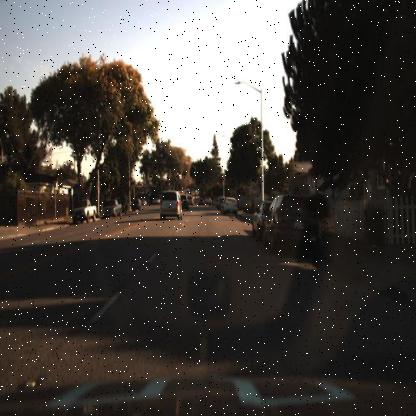car: (261, 192, 322, 258), (250, 197, 275, 239), (71, 195, 97, 227), (70, 196, 97, 225), (158, 188, 182, 220), (100, 196, 124, 219), (102, 198, 124, 218), (221, 197, 238, 217), (128, 196, 142, 214), (130, 195, 142, 215)
